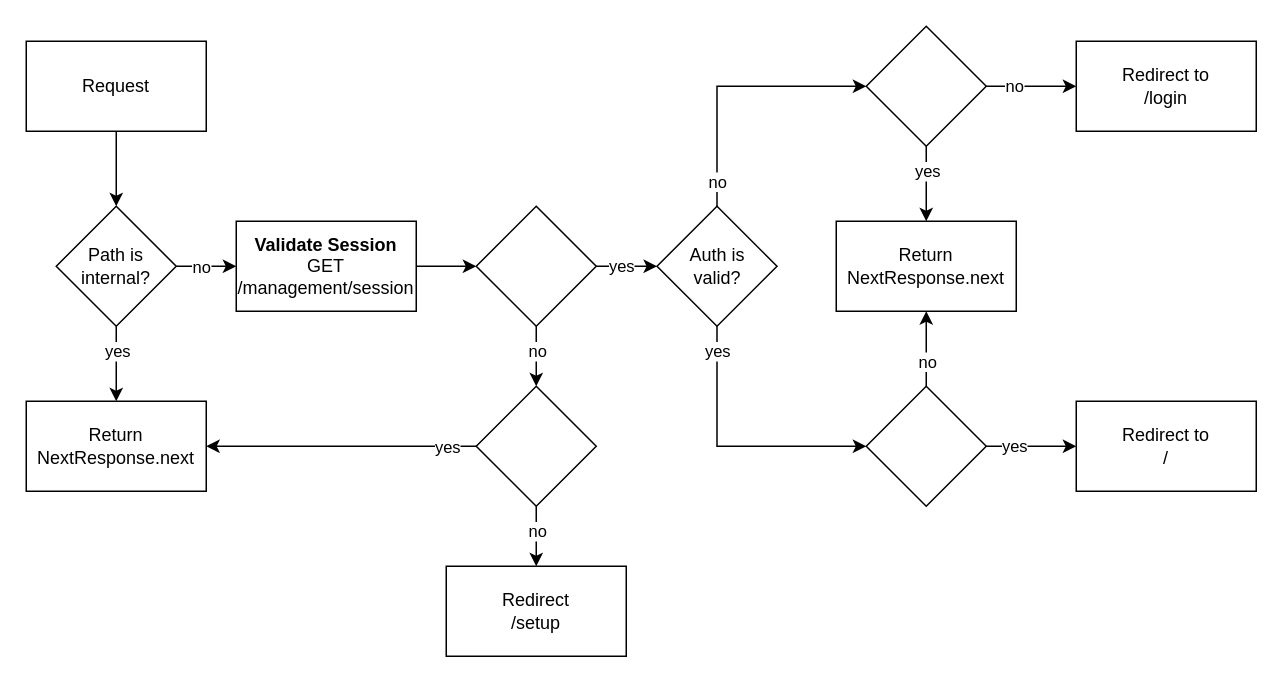
Image size: 1283x683. Some labels were removed from this diagram. Here are the shapes that lost their labels. From the top down, the box of each, then its label:
(865, 25, 986, 146): Path is /login?
(475, 205, 596, 326): System is configured?
(475, 385, 596, 506): Path is /setup?
(865, 385, 986, 506): Path is /login or /setup?
